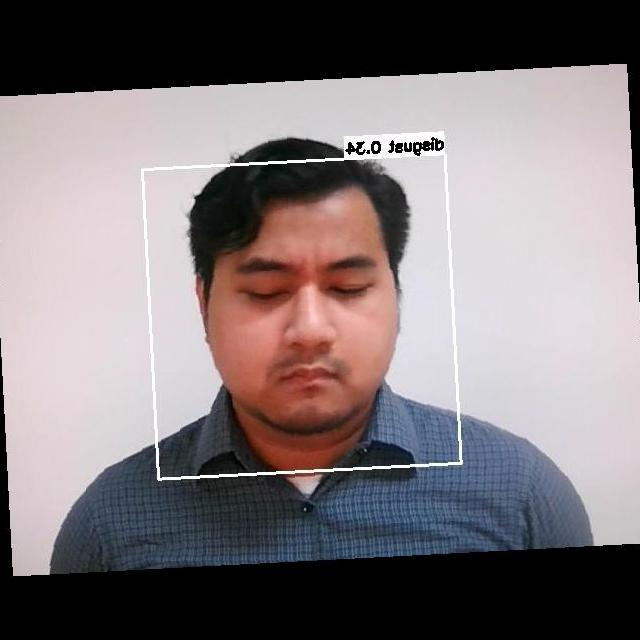Angry: (221, 233, 395, 414)
